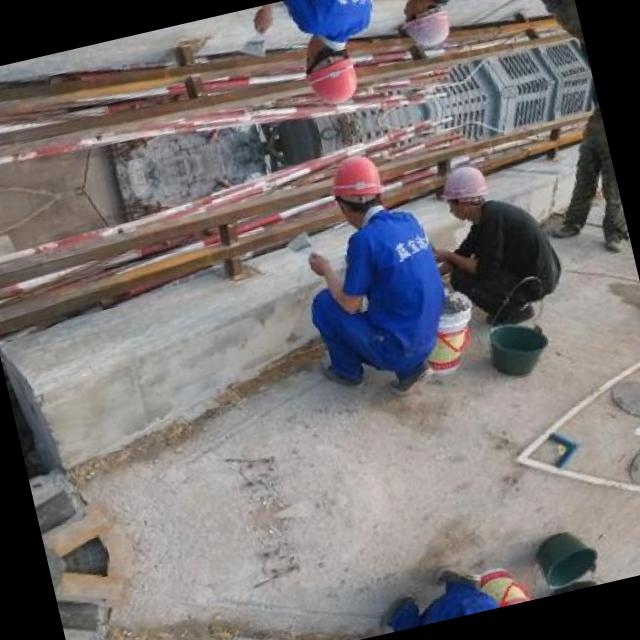helmet: (294, 30, 366, 110), (322, 147, 392, 227), (431, 155, 496, 226), (391, 0, 457, 55)
